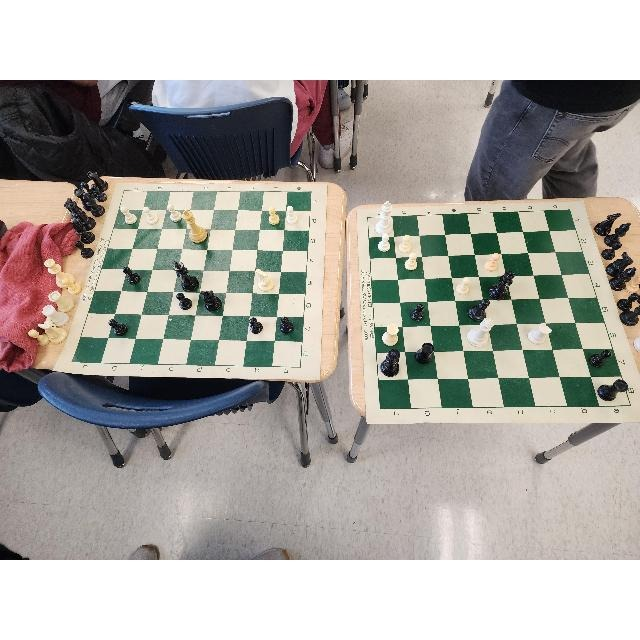black-king: (171, 260, 200, 292), (379, 349, 400, 379)
black-knight: (200, 290, 224, 313)
black-pawn: (466, 298, 490, 321), (589, 349, 611, 369), (172, 292, 193, 312), (107, 317, 128, 336), (245, 315, 264, 335), (121, 266, 141, 284), (410, 302, 426, 324), (279, 315, 293, 335)
black-queen: (488, 271, 515, 301)
black-rook: (596, 378, 628, 403), (414, 341, 435, 367)
white-king: (181, 209, 209, 245), (375, 200, 395, 236)
white-knight: (255, 268, 275, 292)
white-pawn: (142, 204, 160, 227), (118, 206, 138, 226), (484, 251, 501, 271), (454, 277, 471, 297), (286, 205, 300, 226), (267, 207, 281, 227), (166, 204, 182, 221), (377, 233, 391, 252), (399, 234, 413, 253), (404, 252, 417, 271)
white-queen: (465, 318, 492, 348)
white-rook: (528, 322, 552, 345), (383, 322, 399, 348)
